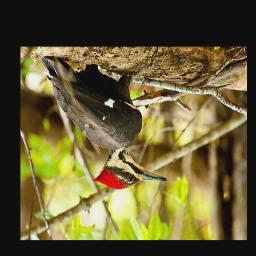Woodpecker: (42, 55, 169, 189)
